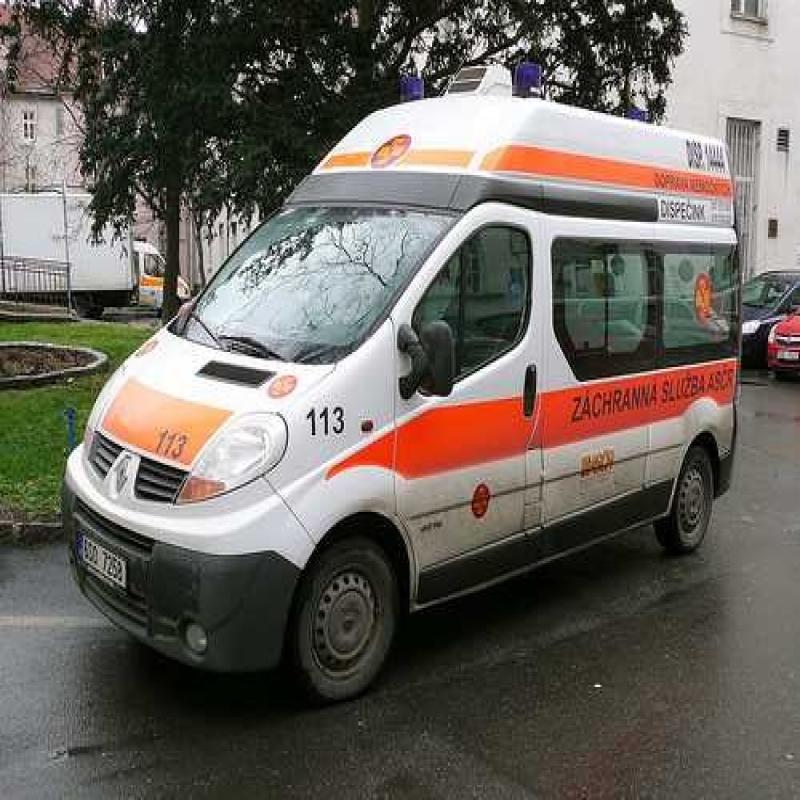AmbulanceSiren: (390, 57, 437, 113), (503, 61, 555, 111)
